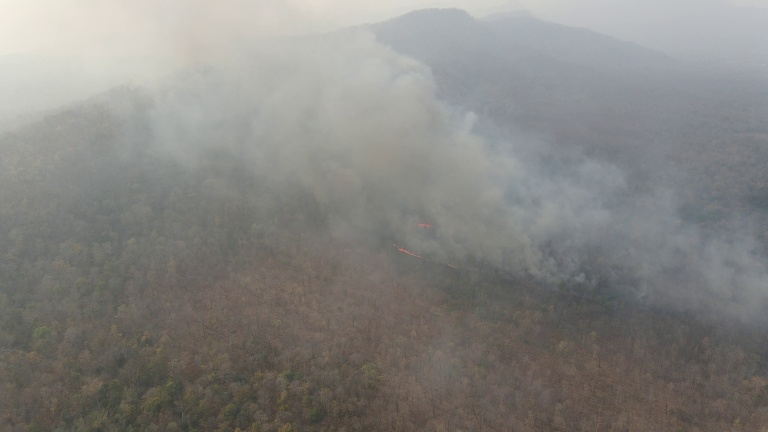fire: (389, 241, 422, 259), (408, 218, 439, 231)
smoke: (145, 1, 626, 282)
